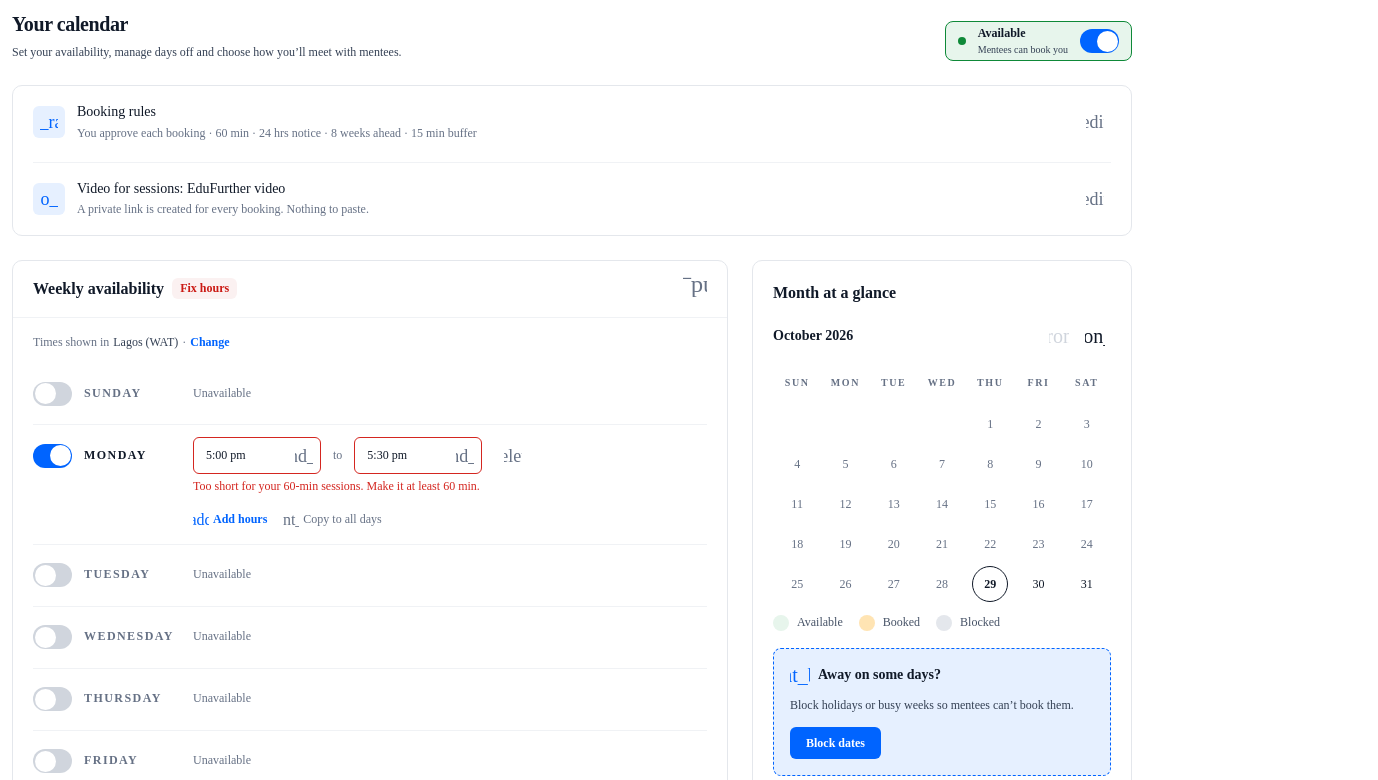
Test case: CalendarScreen: weekly availability on a phone (mobileCollapse=on) › closed while the hours need fixing, going busy opens it to show them
Click the switch named "Tuesday" next to "Tuesday": (52, 575) [33,563,72,587]
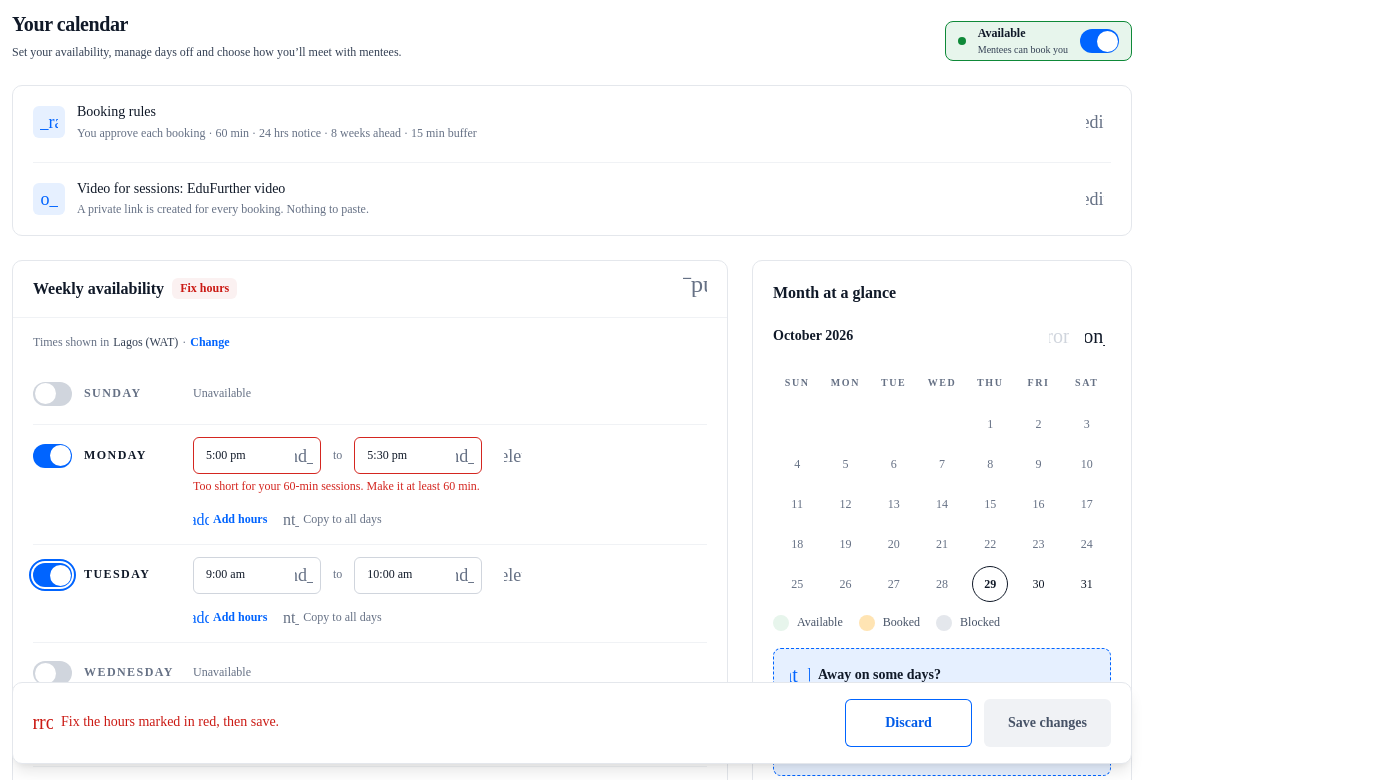
Click the button "Weekly availability": (99, 289) [13,261,727,317]
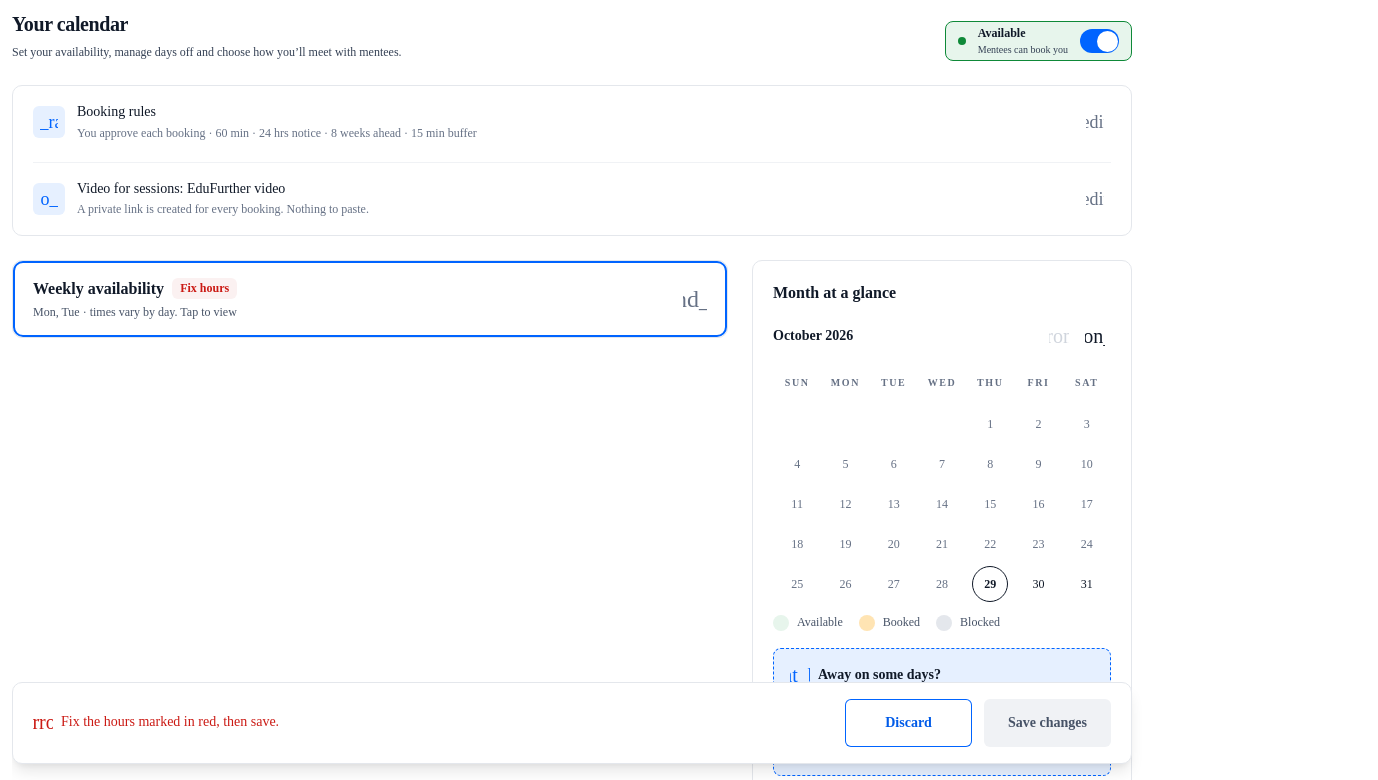
Expected: the button "Weekly availability" is collapsed, [13,261,727,337]
Click the switch named "Available for new bookings": (1100, 41) [1080,29,1119,53]
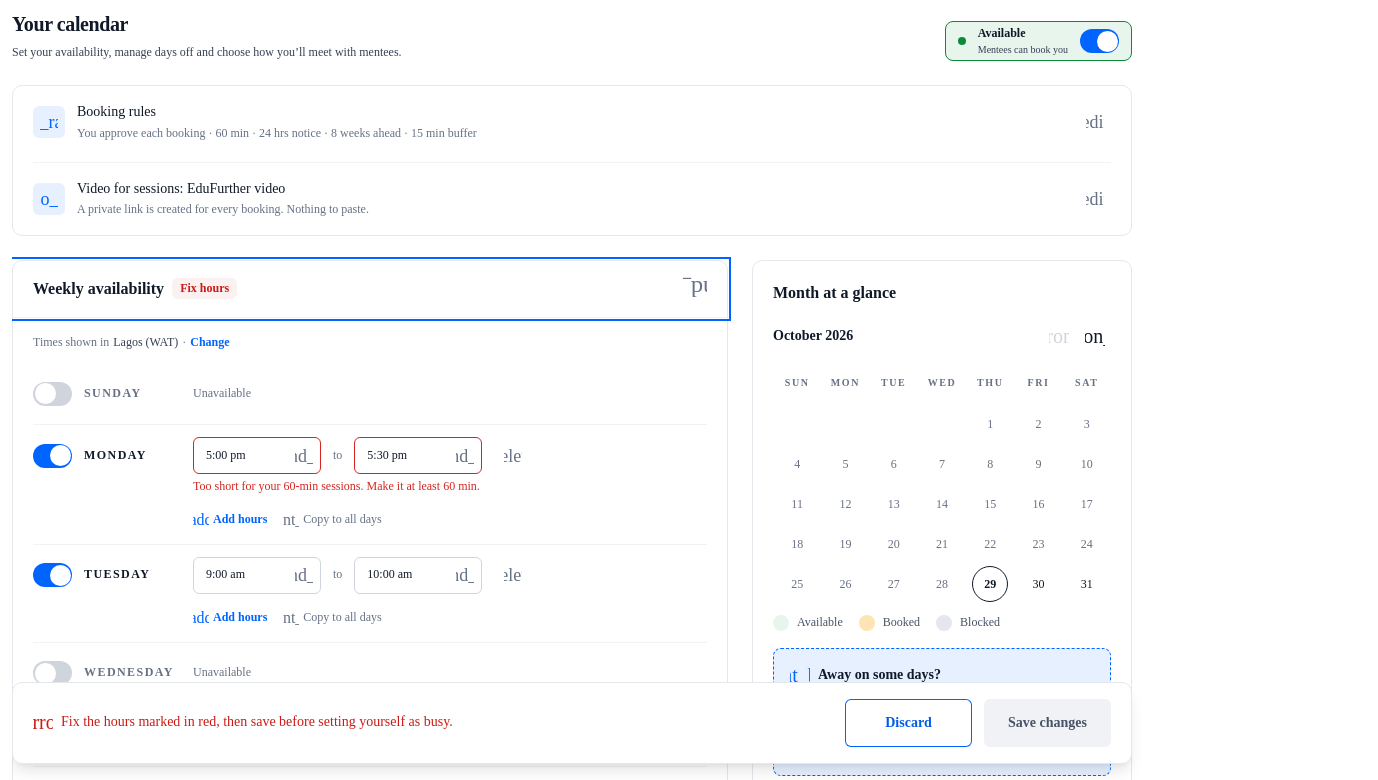
Expected: the button "Weekly availability" is expanded, [13,261,727,317]
Expected: the switch named "Tuesday" next to "Tuesday" is shown, [33,563,72,587]
